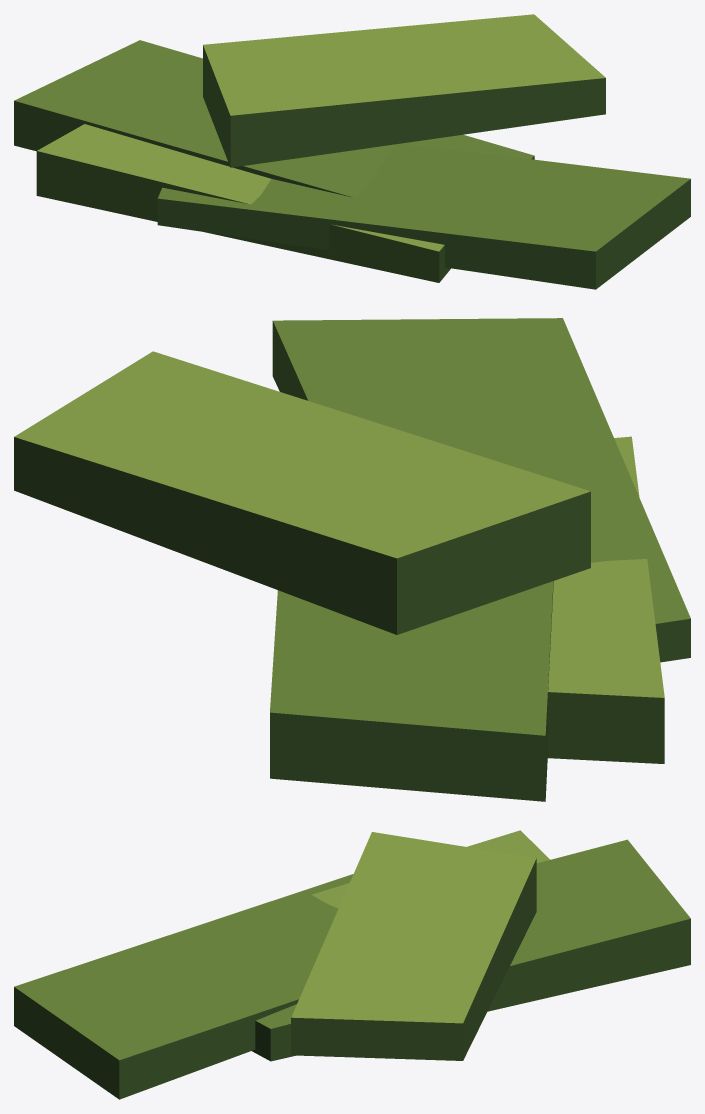
The model's file is gf_woodchip_a.glb.
3 renders of one model, top to bottom at view 1: azimuth 30°, elevation 25°; view 2: azimuth 150°, elevation 25°; view 3: azimuth 270°, elevation 25°, orthographic. The views are drawn at different scales.
Parts seen in each view (by area): view 1: gf_woodchip_a; view 2: gf_woodchip_a; view 3: gf_woodchip_a.
Boxes of the visible parts, box(x1,y1,x2,y2) form: gf_woodchip_a: box(14, 14, 690, 289); gf_woodchip_a: box(14, 318, 690, 801); gf_woodchip_a: box(14, 830, 690, 1099).
Bounding box in the file's own units: 0.1308 × 0.0274 × 0.1579.
